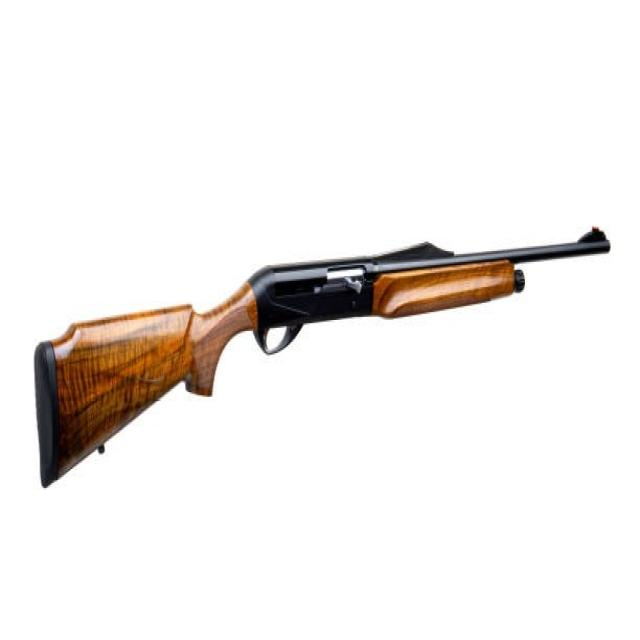rifle: (22, 214, 616, 500)
